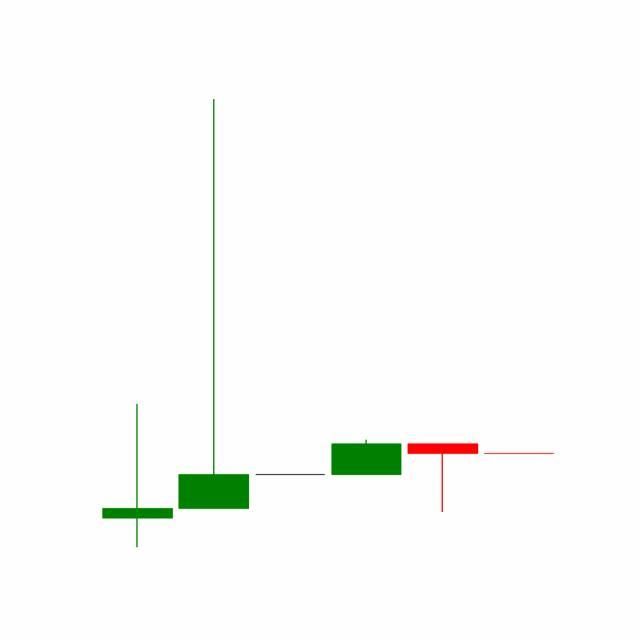Hanging Man: (404, 443, 482, 514)
